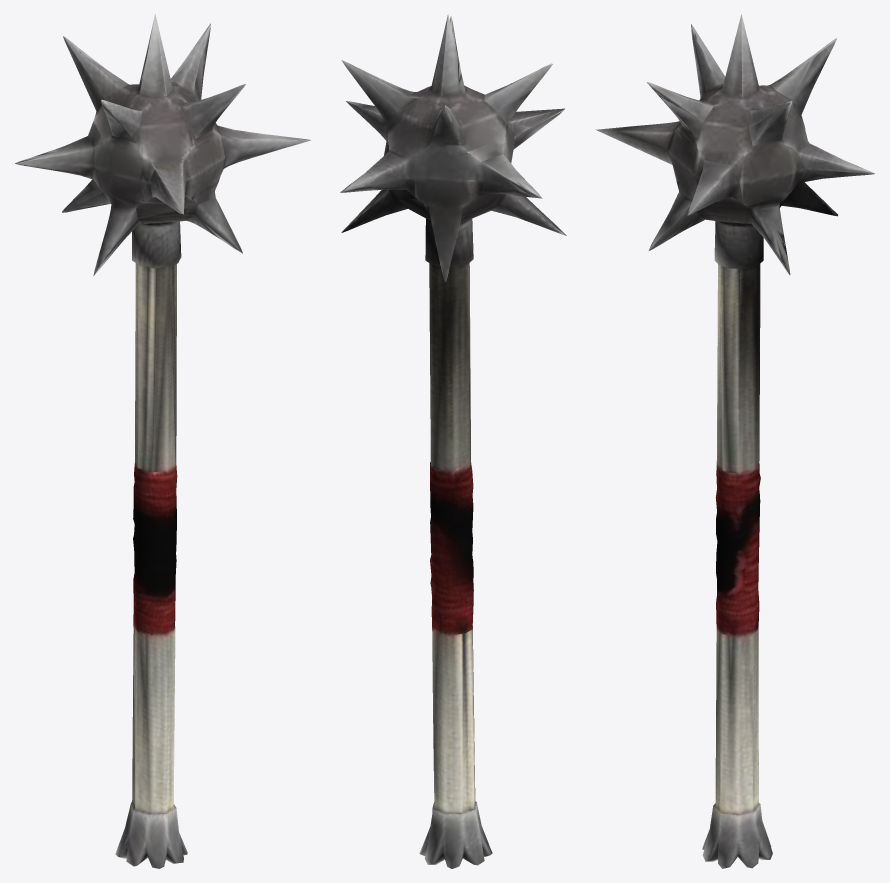
File: Morningstar_Mace.glb
3 renders of one model, left to right at view 1: azimuth 30°, elevation 25°; view 2: azimuth 150°, elevation 25°; view 3: azimuth 270°, elevation 25°, orthographic.
Visible parts, largest first — view 1: body_low.003; view 2: body_low.003; view 3: body_low.003.
Boxes of the visible parts, x1,y1,x2,y2 form: body_low.003: [15, 14, 310, 868]; body_low.003: [340, 14, 566, 868]; body_low.003: [595, 14, 874, 868].
Size of the model in its own units: 0.5923 by 1.93 by 0.5789.
1 material, 1 textured.
